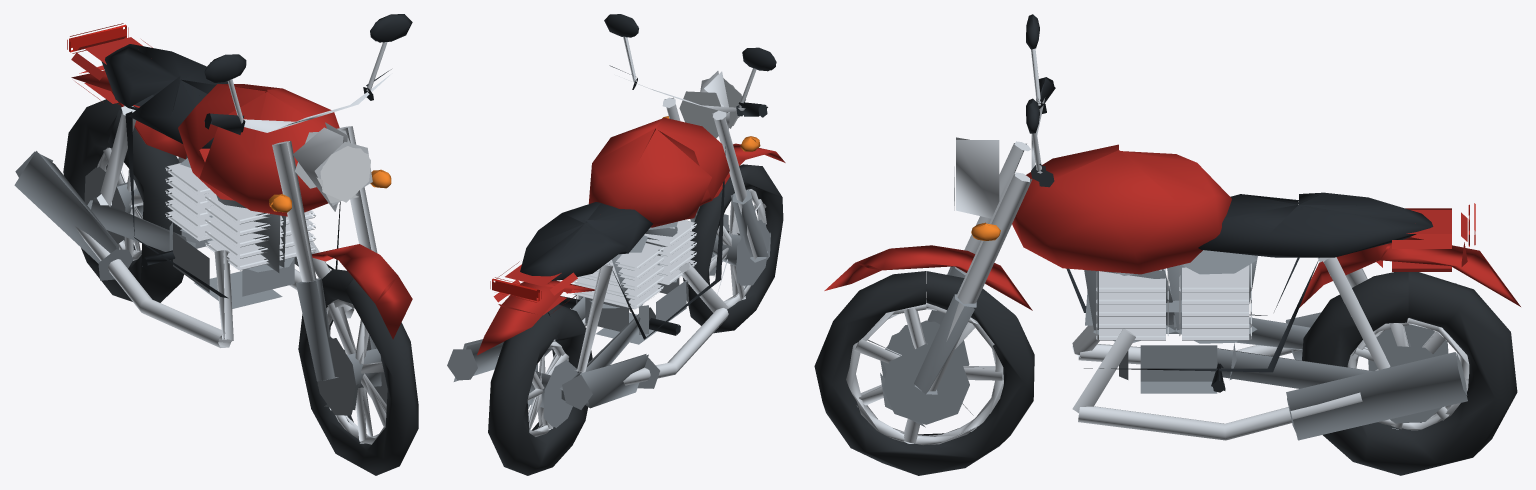
Rendered from moto_city_far.glb.
The picture shows the model from 3 angles, left to right: view 1: azimuth 30°, elevation 25°; view 2: azimuth 150°, elevation 25°; view 3: azimuth 270°, elevation 25°; orthographic projection. The views are drawn at different scales.
Visible parts, largest first — view 1: alloy-chrome-Motorcycle body, paint-red-Motorcycle body, alloy-steel-Motorcycle body, rubber-black-Motorcycle body, rubber-rubber-wheel-front, rubber-rubber-wheel-back, alloy-chrome-wheel-front, alloy-steel-wheel-front, headlamp-lamp-Motorcycle body, alloy-steel-wheel-back, alloy-chrome-wheel-back, taillamp-tail-Motorcycle body (+1 smaller); view 2: paint-red-Motorcycle body, alloy-chrome-Motorcycle body, alloy-steel-Motorcycle body, rubber-black-Motorcycle body, rubber-rubber-wheel-back, rubber-rubber-wheel-front, alloy-steel-wheel-front, alloy-steel-wheel-back, alloy-chrome-wheel-front, alloy-chrome-wheel-back, taillamp-tail-Motorcycle body; view 3: paint-red-Motorcycle body, alloy-chrome-Motorcycle body, alloy-steel-Motorcycle body, rubber-rubber-wheel-back, rubber-rubber-wheel-front, rubber-black-Motorcycle body, alloy-steel-wheel-front, alloy-chrome-wheel-front, alloy-chrome-wheel-back, alloy-steel-wheel-back.
Part boxes in pixels (box(x1,y1,x2,y2)): alloy-chrome-Motorcycle body: box(75, 42, 392, 377); paint-red-Motorcycle body: box(71, 36, 412, 339); alloy-steel-Motorcycle body: box(14, 151, 376, 381); rubber-black-Motorcycle body: box(101, 14, 412, 298); rubber-rubber-wheel-front: box(298, 269, 418, 475); rubber-rubber-wheel-back: box(63, 99, 183, 302); alloy-chrome-wheel-front: box(326, 299, 386, 444); alloy-steel-wheel-front: box(317, 335, 387, 415); headlamp-lamp-Motorcycle body: box(316, 146, 370, 203); alloy-steel-wheel-back: box(84, 166, 143, 243); alloy-chrome-wheel-back: box(97, 147, 143, 260); taillamp-tail-Motorcycle body: box(67, 23, 128, 53); paint-red-Motorcycle body: box(477, 117, 785, 355); alloy-chrome-Motorcycle body: box(498, 36, 756, 385); alloy-steel-Motorcycle body: box(447, 189, 768, 409); rubber-black-Motorcycle body: box(520, 14, 776, 339); rubber-rubber-wheel-back: box(488, 304, 592, 475); rubber-rubber-wheel-front: box(683, 164, 783, 333); alloy-steel-wheel-front: box(709, 214, 770, 291); alloy-steel-wheel-back: box(527, 360, 577, 427); alloy-chrome-wheel-front: box(709, 189, 766, 309); alloy-chrome-wheel-back: box(527, 339, 568, 436); taillamp-tail-Motorcycle body: box(490, 277, 541, 302); paint-red-Motorcycle body: box(824, 144, 1520, 310); alloy-chrome-Motorcycle body: box(929, 48, 1390, 440); alloy-steel-Motorcycle body: box(914, 250, 1467, 440); rubber-rubber-wheel-back: box(1302, 272, 1517, 475); rubber-rubber-wheel-front: box(814, 271, 1034, 475); rubber-black-Motorcycle body: box(1026, 14, 1433, 392); alloy-steel-wheel-front: box(880, 320, 969, 427); alloy-chrome-wheel-front: box(846, 298, 1003, 445); alloy-chrome-wheel-back: box(1347, 318, 1469, 430); alloy-steel-wheel-back: box(1368, 324, 1448, 423).
Size of the model in its own units: 0.7538 by 1.37 by 2.13.
